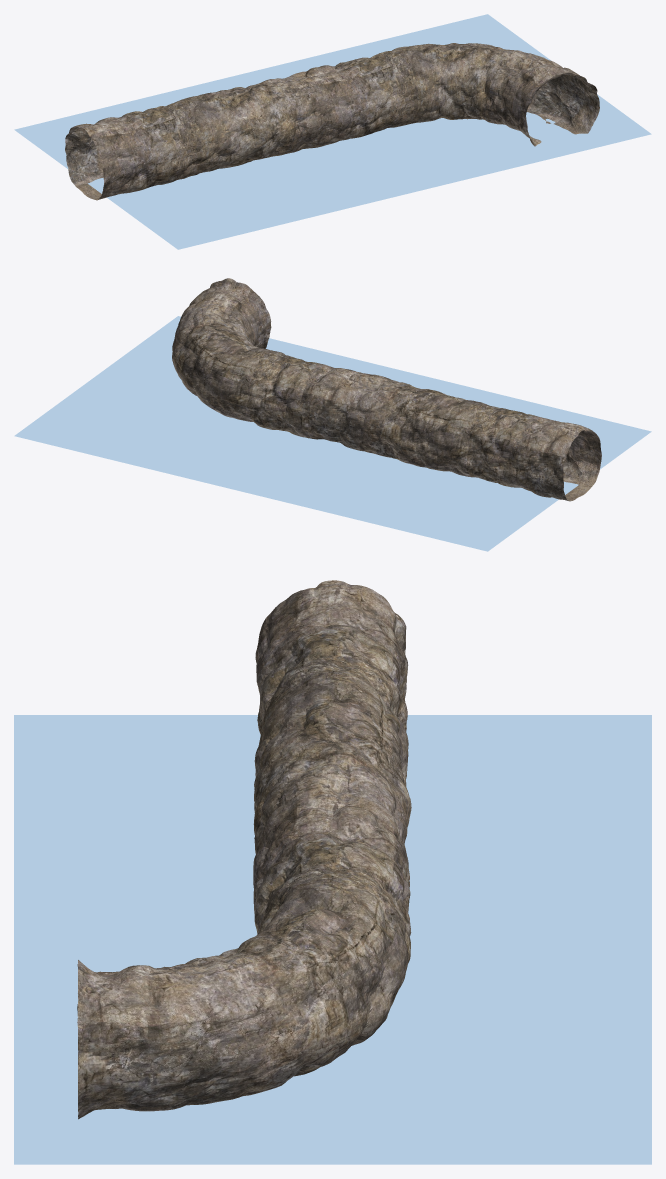
Rendered from cave.glb.
3 views of the same model, one above another, from view 1: azimuth 30°, elevation 25°; view 2: azimuth 150°, elevation 25°; view 3: azimuth 270°, elevation 25° (orthographic). The views are drawn at different scales.
Parts seen in each view (by area): view 1: CCave01.Shape_Rock01_0, CCave Water.Shape_Water_0; view 2: CCave Water.Shape_Water_0, CCave01.Shape_Rock01_0; view 3: CCave Water.Shape_Water_0, CCave01.Shape_Rock01_0.
Boxes of the visible parts, x1,y1,x2,y2 form: CCave01.Shape_Rock01_0: (65,43,599,200); CCave Water.Shape_Water_0: (14,14,651,249); CCave Water.Shape_Water_0: (14,316,651,551); CCave01.Shape_Rock01_0: (172,278,601,501); CCave Water.Shape_Water_0: (14,715,651,1164); CCave01.Shape_Rock01_0: (77,580,411,1119).
Size of the model in its own units: 25.99 by 3.62 by 15.2.
Materials: 2 (1 with a texture image).
